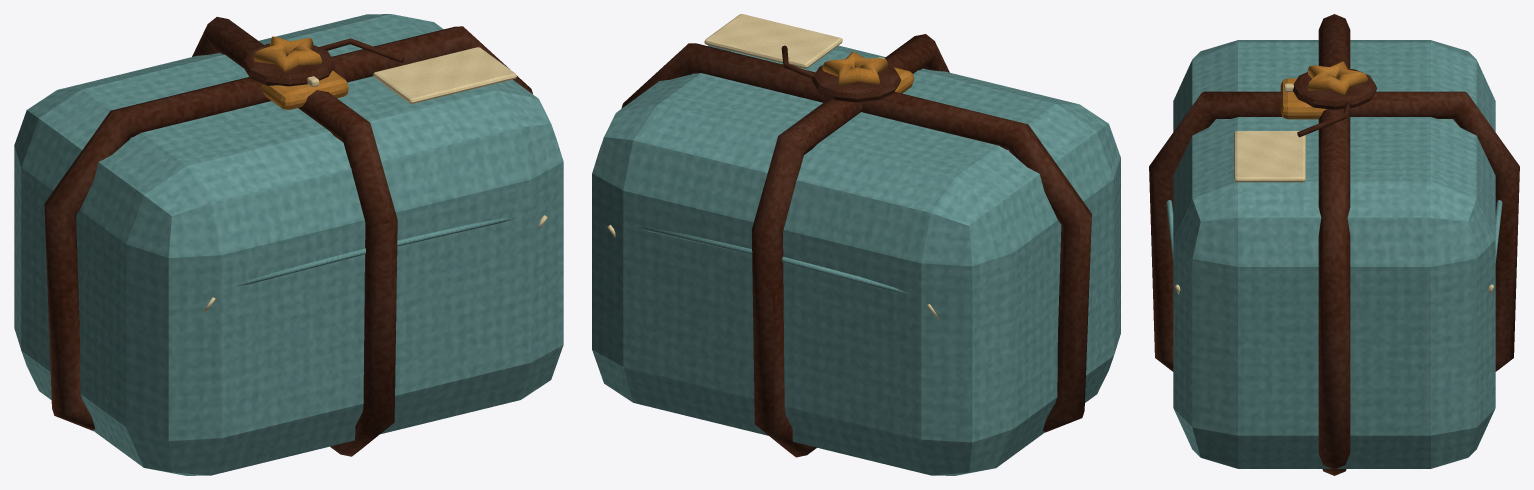
File: FerryParcel.fbx
3 renders of one model, left to right at view 1: azimuth 30°, elevation 25°; view 2: azimuth 150°, elevation 25°; view 3: azimuth 270°, elevation 25°, orthographic. The views are drawn at different scales.
Parts seen in each view (by area): view 1: Folded linen parcel.003, Leather tie.006, Leather tie.007, Linen delivery tag.002, Wax seal.003, Inlaid wish sigil.015, Brass buckle.003, Parcel hem.004; view 2: Folded linen parcel.003, Leather tie.006, Leather tie.007, Linen delivery tag.002, Wax seal.003, Inlaid wish sigil.015, Parcel hem.005; view 3: Folded linen parcel.003, Leather tie.007, Leather tie.006, Linen delivery tag.002, Wax seal.003, Inlaid wish sigil.015, Brass buckle.003, Tag cord.002.
Part boxes in pixels (x1=…): Folded linen parcel.003: x1=14, y1=14, x2=563, y2=475; Leather tie.006: x1=44, y1=26, x2=532, y2=430; Leather tie.007: x1=192, y1=17, x2=397, y2=456; Linen delivery tag.002: x1=373, y1=47, x2=516, y2=103; Wax seal.003: x1=242, y1=43, x2=335, y2=86; Inlaid wish sigil.015: x1=253, y1=36, x2=322, y2=72; Brass buckle.003: x1=261, y1=70, x2=348, y2=109; Parcel hem.004: x1=235, y1=217, x2=517, y2=286; Folded linen parcel.003: x1=592, y1=45, x2=1120, y2=475; Leather tie.006: x1=621, y1=43, x2=1091, y2=432; Leather tie.007: x1=752, y1=34, x2=949, y2=457; Linen delivery tag.002: x1=704, y1=14, x2=842, y2=68; Wax seal.003: x1=811, y1=59, x2=901, y2=102; Inlaid wish sigil.015: x1=822, y1=51, x2=888, y2=85; Parcel hem.005: x1=636, y1=227, x2=907, y2=293; Folded linen parcel.003: x1=1173, y1=40, x2=1495, y2=468; Leather tie.007: x1=1149, y1=91, x2=1519, y2=371; Leather tie.006: x1=1318, y1=14, x2=1350, y2=475; Linen delivery tag.002: x1=1234, y1=131, x2=1305, y2=182; Wax seal.003: x1=1292, y1=68, x2=1377, y2=109; Inlaid wish sigil.015: x1=1307, y1=61, x2=1367, y2=95; Brass buckle.003: x1=1280, y1=78, x2=1326, y2=119; Tag cord.002: x1=1297, y1=102, x2=1350, y2=137.
Size of the model in its own units: 72.14 by 51.82 by 51.84.
4 materials, 4 textured.
